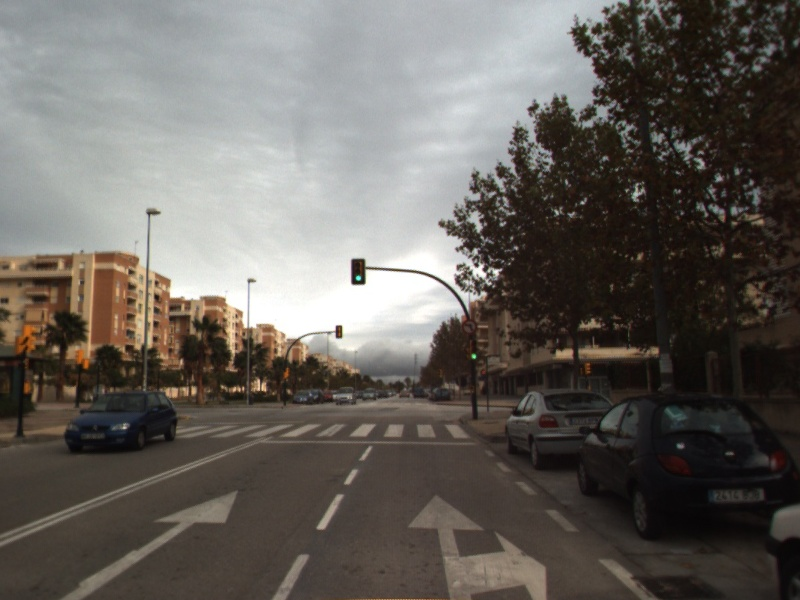STRAIGHT: (55, 488, 240, 600)
STRAIGHT_RIGHT: (405, 492, 549, 600)
